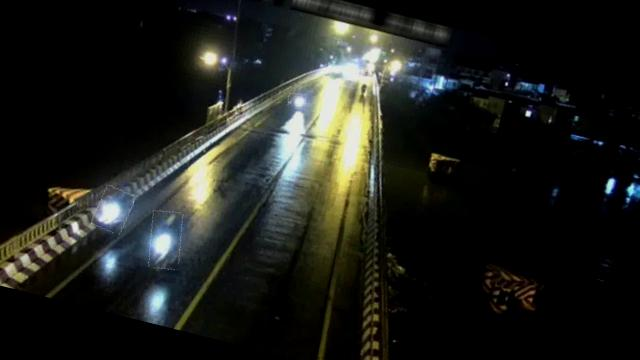Bike: (143, 208, 189, 273), (92, 185, 135, 235), (286, 92, 307, 110), (357, 81, 370, 95)
